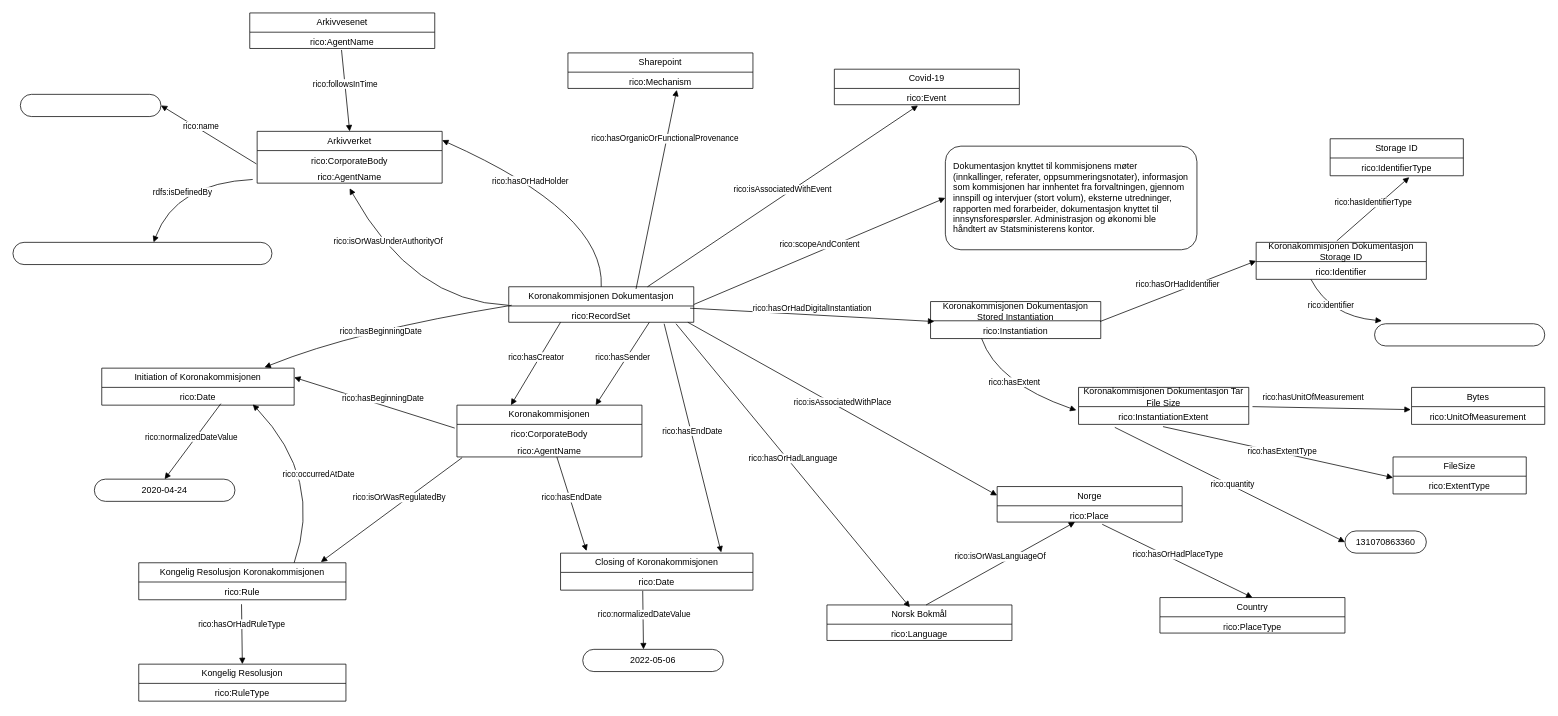
The diagram is 1558 pixels wide and 716 high, and some of its shapes have lost their labels. Each missing label, with the centre of its shape:
"96e28e3a-94fd-49e9-af7c-be6c8f60c141" belongs at [1459,334].
"https://forvaltningsdatabasen.sikt.no/data/enhet/55009" belongs at [142,253].
"National Archives of Norway" belongs at [90,105].
